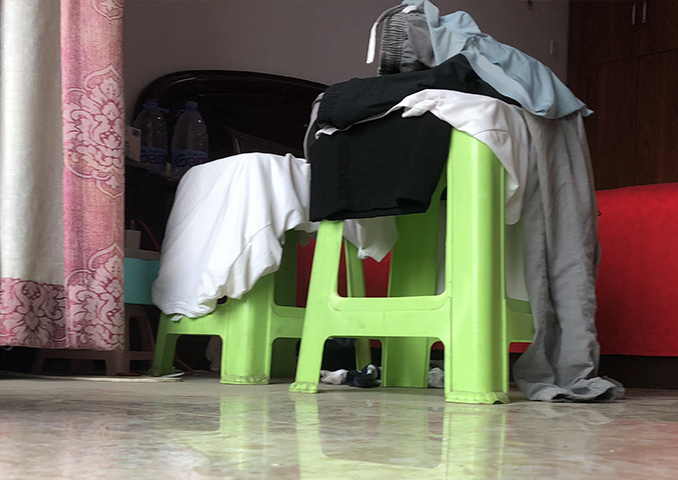curtain: (1, 1, 128, 356)
socks: (320, 361, 381, 390)
stool: (288, 129, 538, 407), (148, 146, 373, 385)
